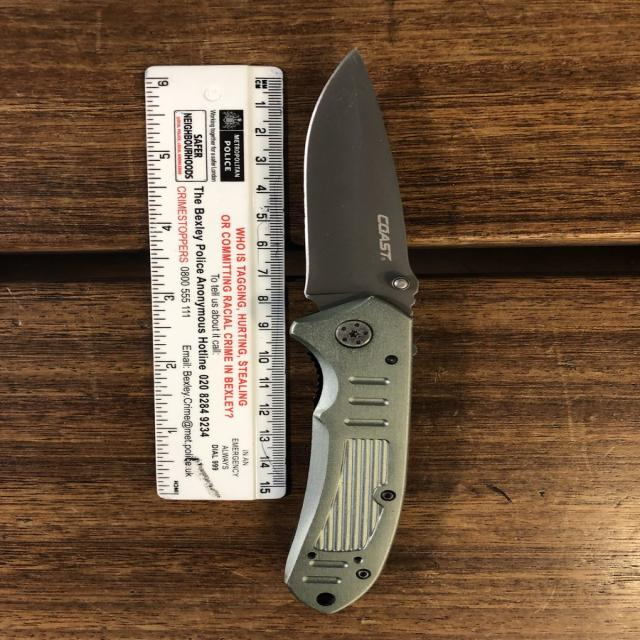Sharp-Object: (286, 50, 412, 616)
